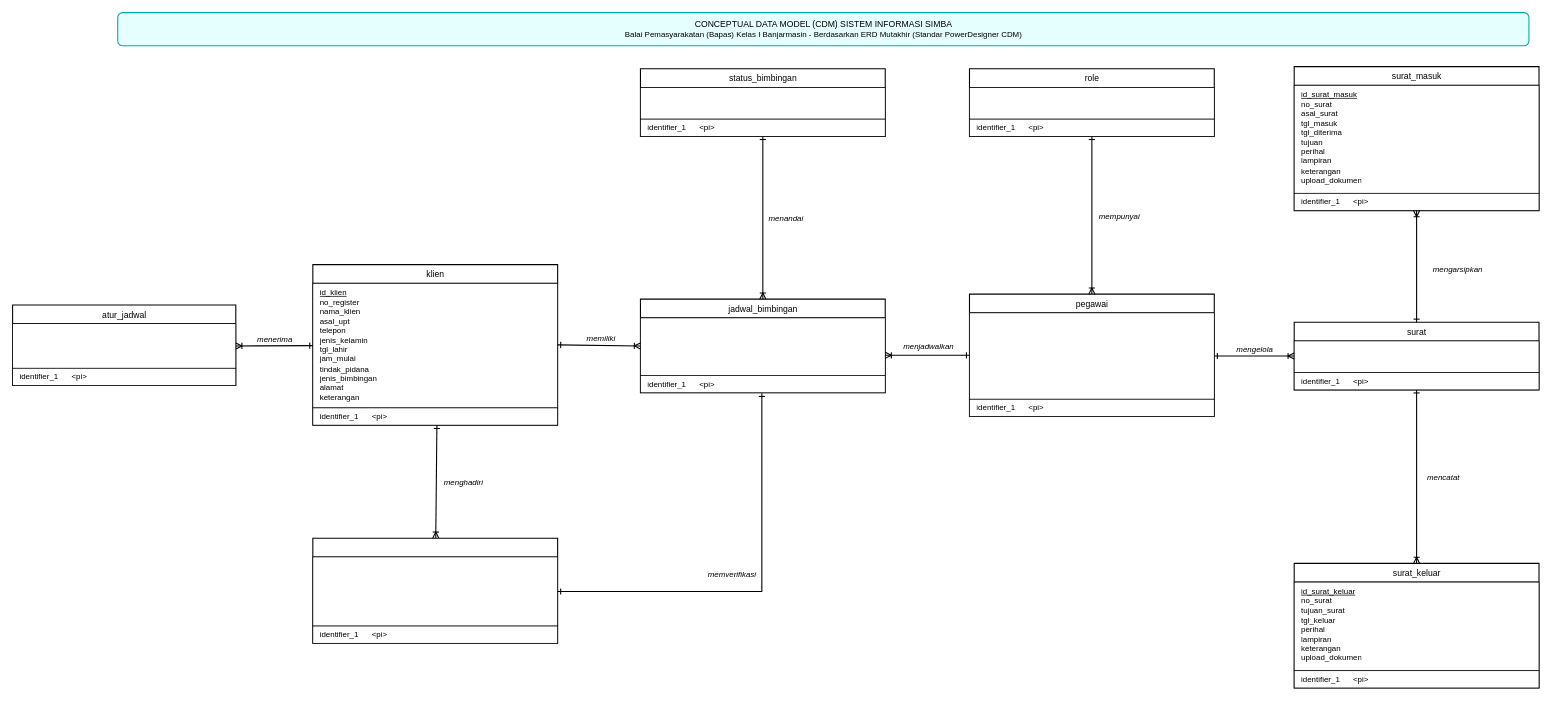
Some shapes in this 1552 by 701 pixel diagram are drawn without their labels. The box of each missing label's shape, as (x1, y1, x2, y2) in pixels:
id_atur_jadwal hari jam_mulai: (12, 323, 236, 368)
id_jadwal_bimbingan tgl_bimbingan jam_mulai keterangan: (640, 317, 885, 375)
id_kehadiran tgl_hadir jam_hadir foto_kehadiran status_kehadiran catatan: (312, 556, 558, 626)
id_pegawai nama_pegawai nip_usn password jabatan email alamat foto: (969, 312, 1214, 399)
id_role nama_role: (969, 87, 1214, 119)
id_status_bimbingan nama_status: (640, 87, 885, 119)
id_surat nama_surat: (1293, 340, 1539, 373)
kehadiran_klien: (312, 537, 558, 644)
